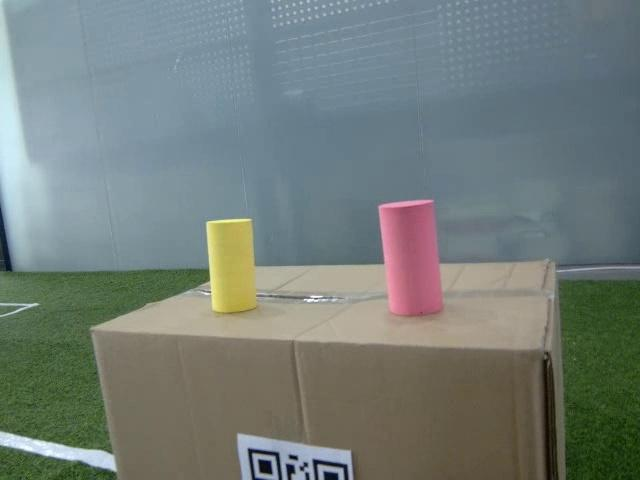red_cylinder: (380, 199, 444, 316)
yellow_cylinder: (206, 218, 257, 313)
